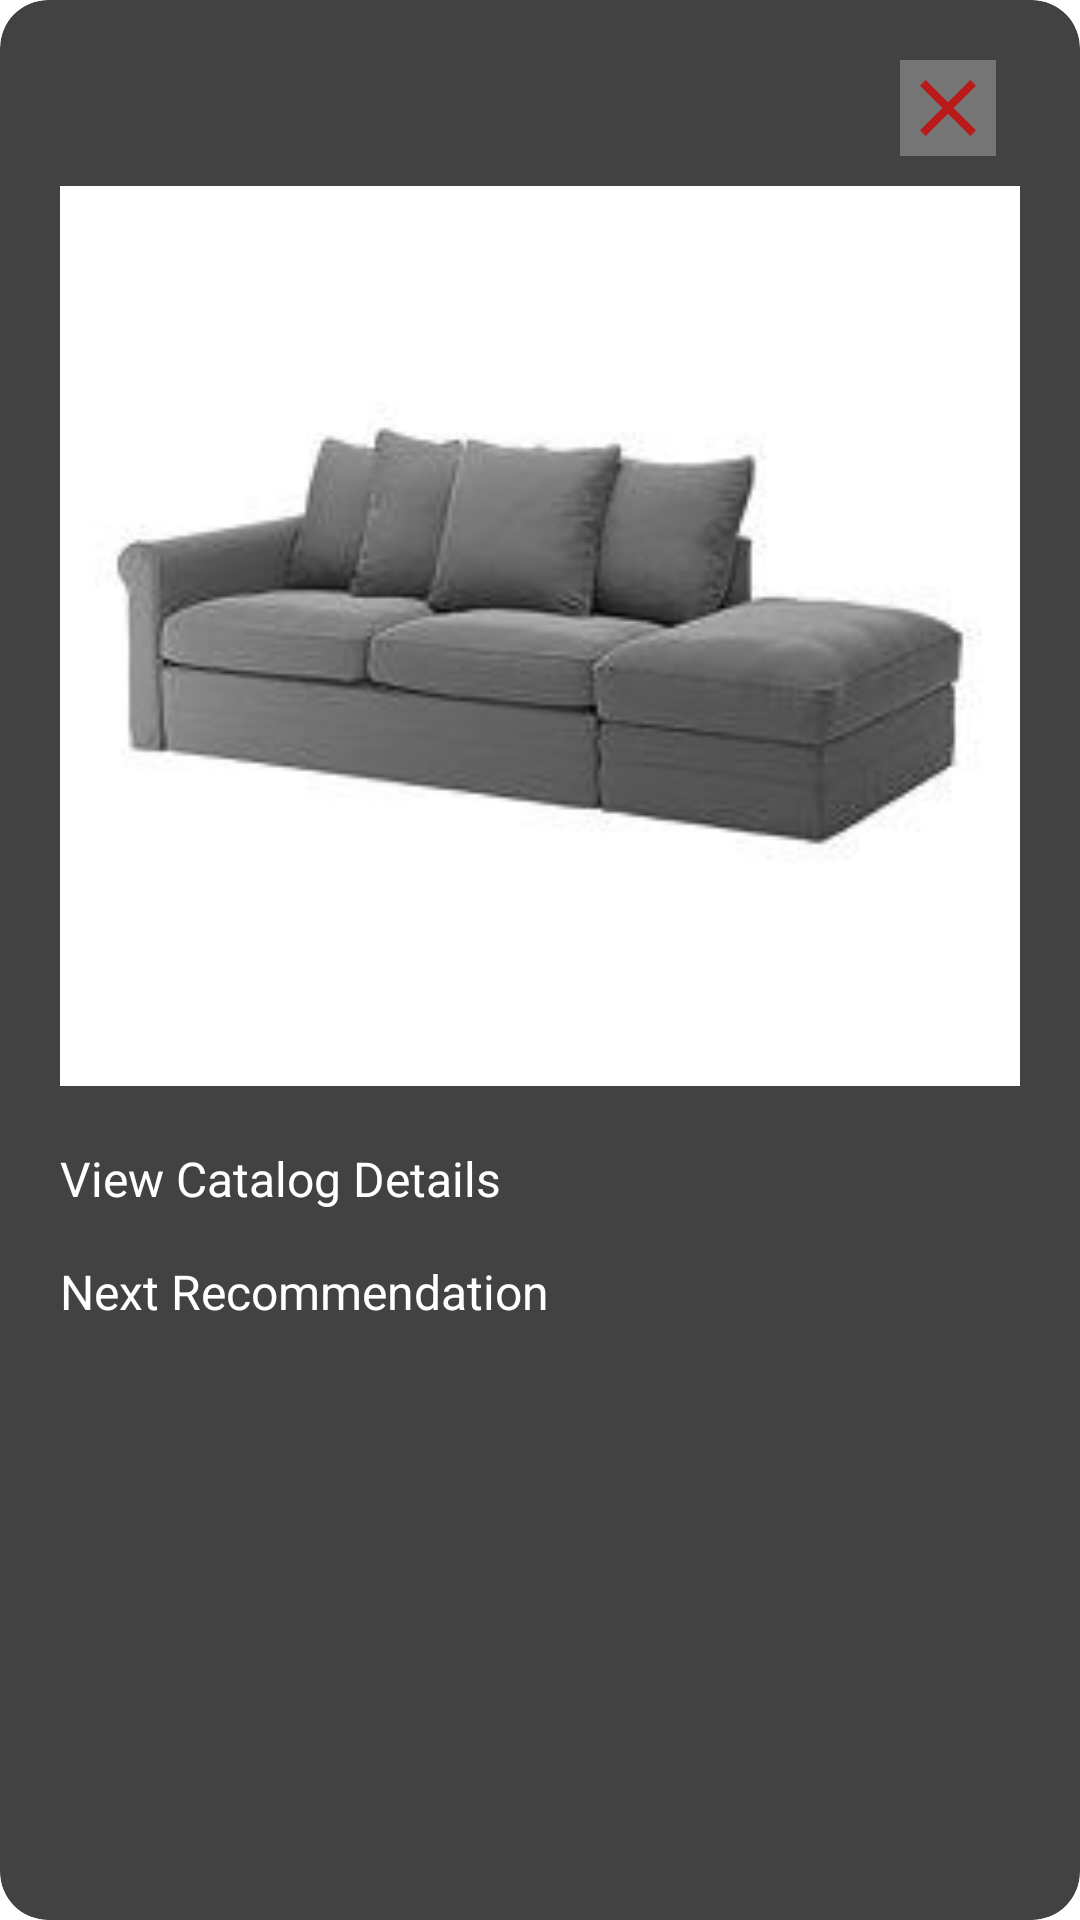

Icons on this 1080*1920 Android screen, each with its box as (x1, y1, x2, y2):
Close: (900, 60, 996, 156)
